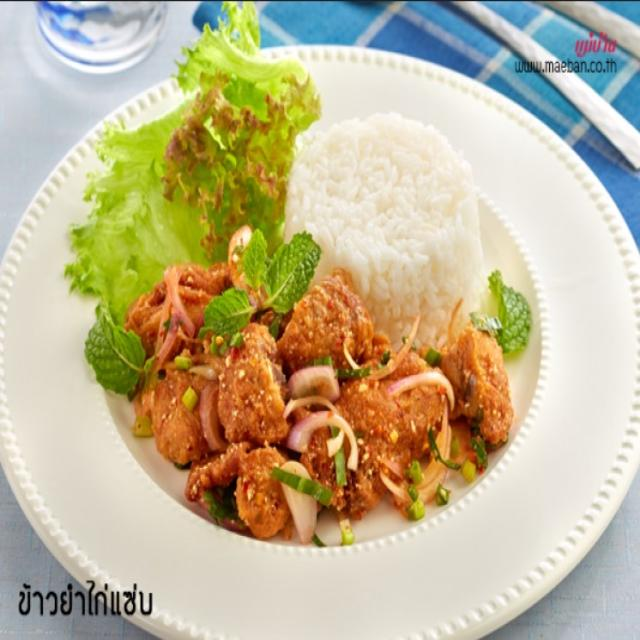carb: (290, 113, 492, 354)
meat: (158, 296, 504, 516)
spicy chicken rice salad: (59, 57, 536, 552)
vegetable: (71, 72, 288, 288)
